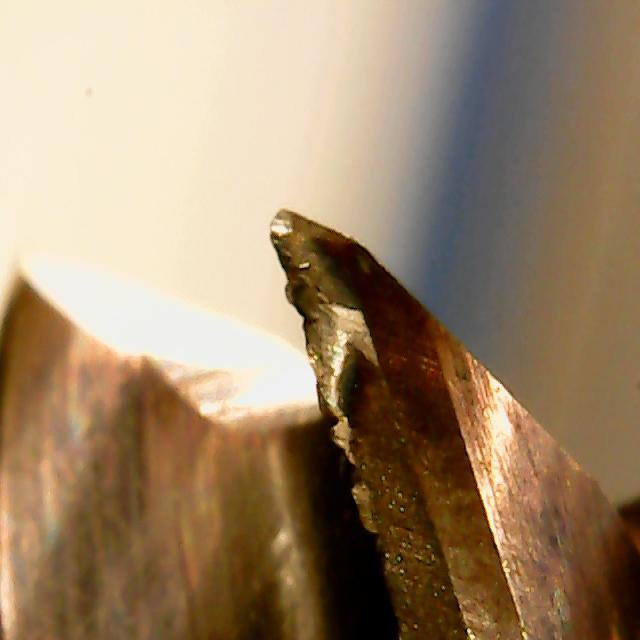Tool-wear-class-3: (252, 201, 439, 423)
